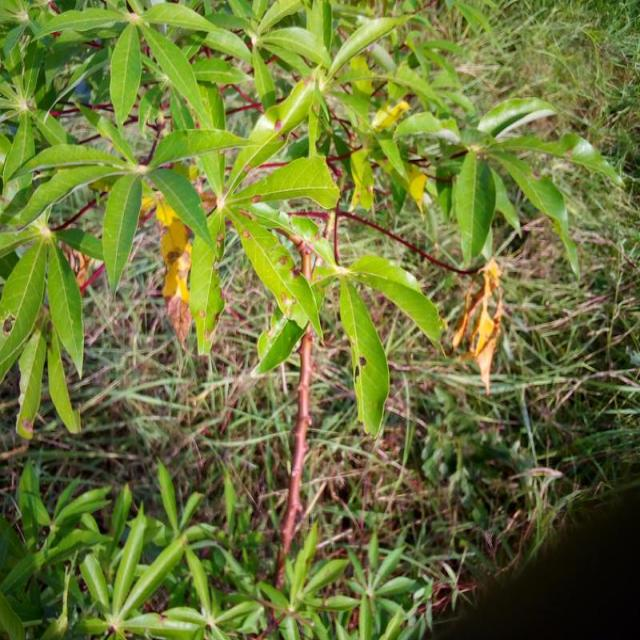cassava leaf: (336, 275, 389, 440), (100, 171, 142, 294)
